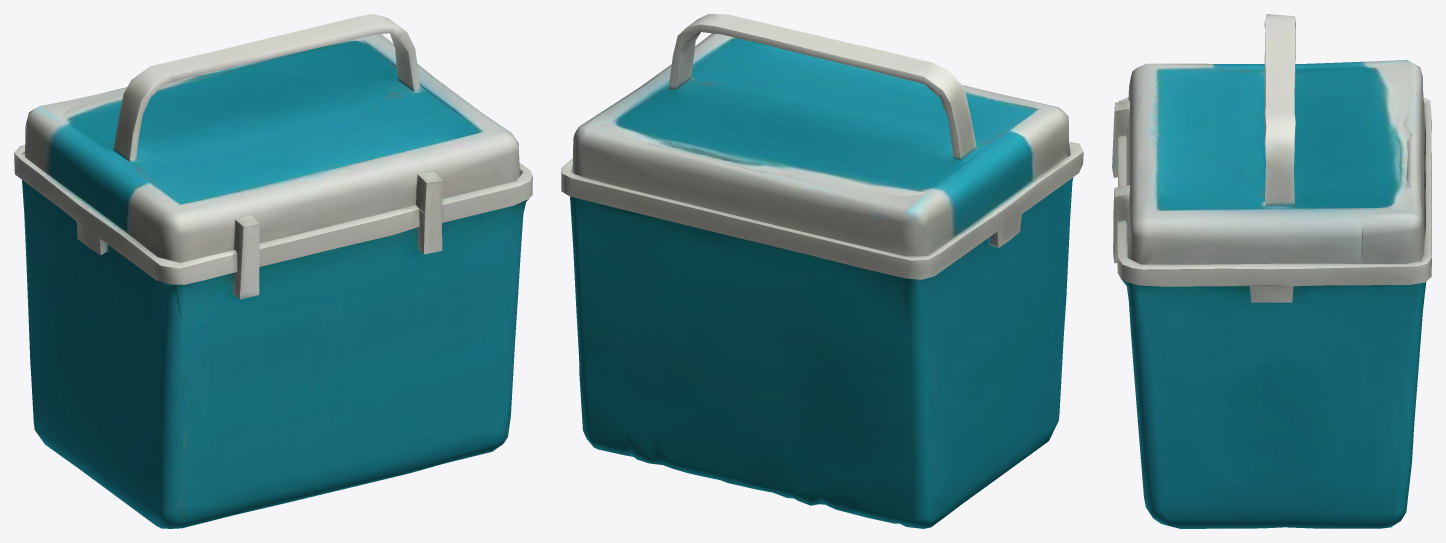
File: beachCooler.glb
The picture shows the model from 3 angles, left to right: view 1: azimuth 30°, elevation 25°; view 2: azimuth 150°, elevation 25°; view 3: azimuth 270°, elevation 25°; orthographic projection. The views are drawn at different scales.
Parts seen in each view (by area): view 1: model; view 2: model; view 3: model.
Boxes of the visible parts, x1=… form: model: x1=14, y1=14, x2=532, y2=528; model: x1=561, y1=14, x2=1083, y2=528; model: x1=1112, y1=14, x2=1431, y2=528.
Size of the model in its own units: 1.84 by 1.9 by 1.42.
1 material, 1 textured.
